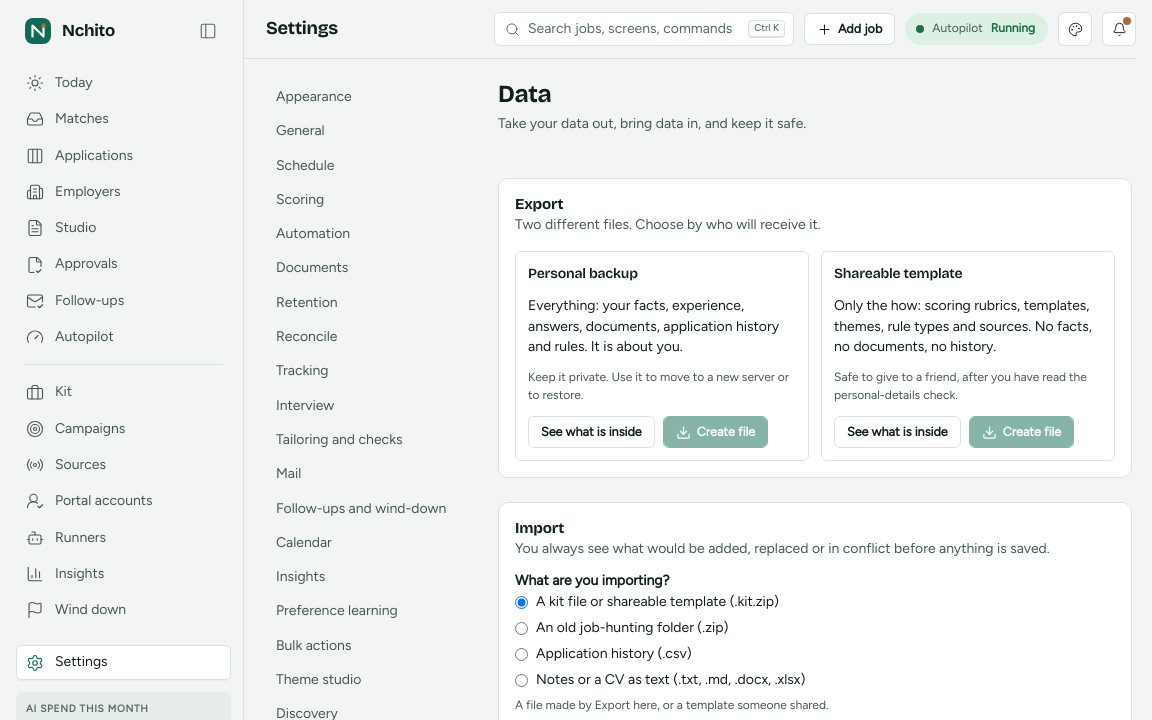
Scenario: Data against the wave 2 contract › refuses a share export with personal details until acknowledged, then downloads
The width and height of the screenshot is (1152, 720).
What coordinates should you click on to do the following:
click the 2nd button "See what is inside"
I would click on:
 (897, 432)
Its box is [834, 416, 961, 448].
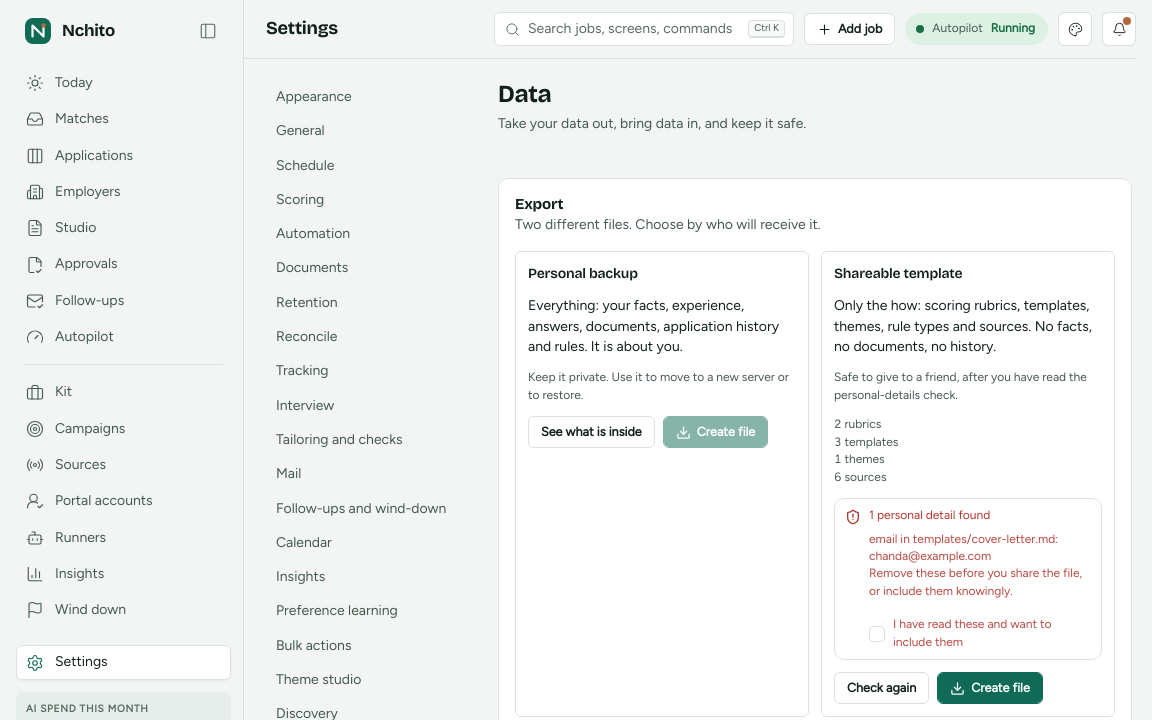
Now the text "1 personal detail found" is shown, box [869, 508, 990, 522]
What coordinates should you click on to do the following:
click the button "Create file" below "chanda@example.com"
I would click on:
 (990, 688)
Its box is [937, 672, 1043, 704].
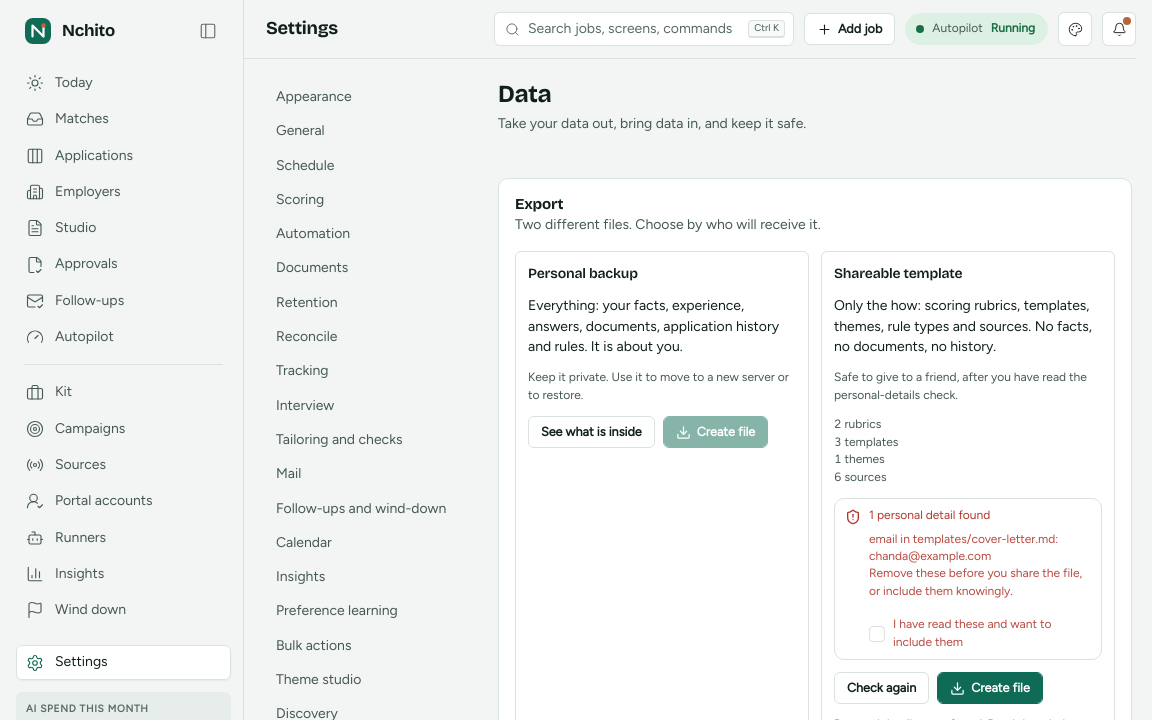
Expected: the button "Download" is not shown
What coordinates should you click on to do the following:
click the checkbox named "I have read these and want to include them"
I would click on:
 (877, 634)
Its box is [869, 626, 885, 642].
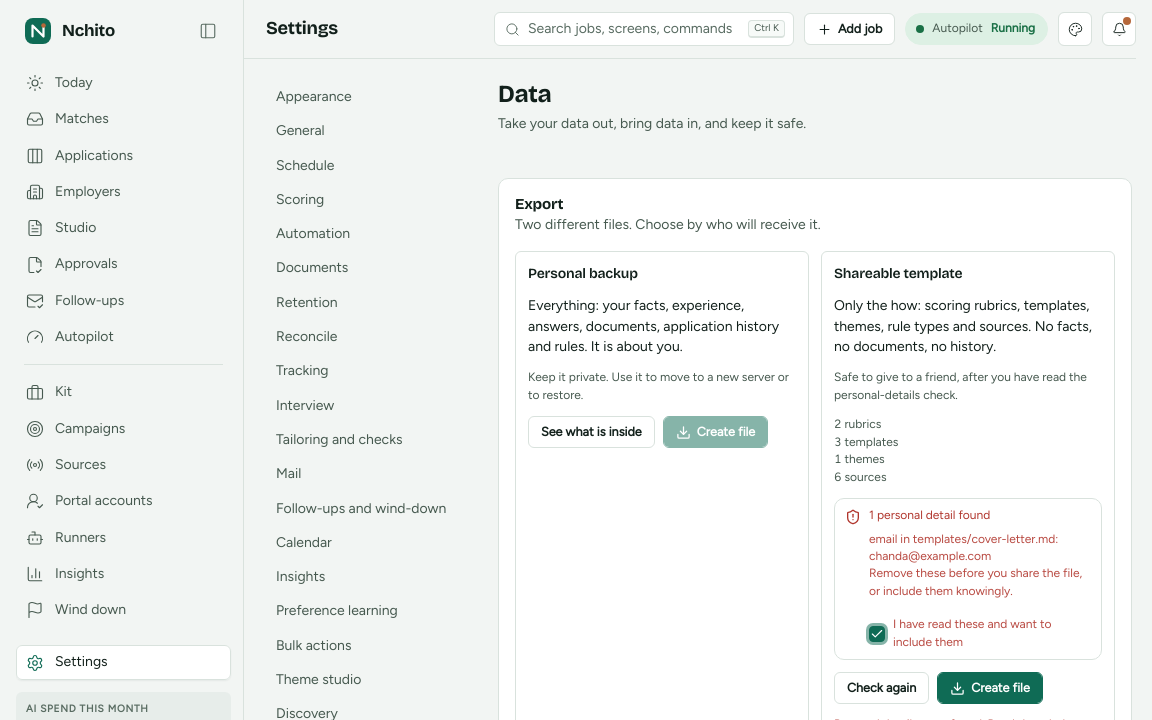
What coordinates should you click on to do the following:
click the button "Create file" below "chanda@example.com"
I would click on:
 (990, 688)
Its box is [937, 672, 1043, 704].
(page scrolled)
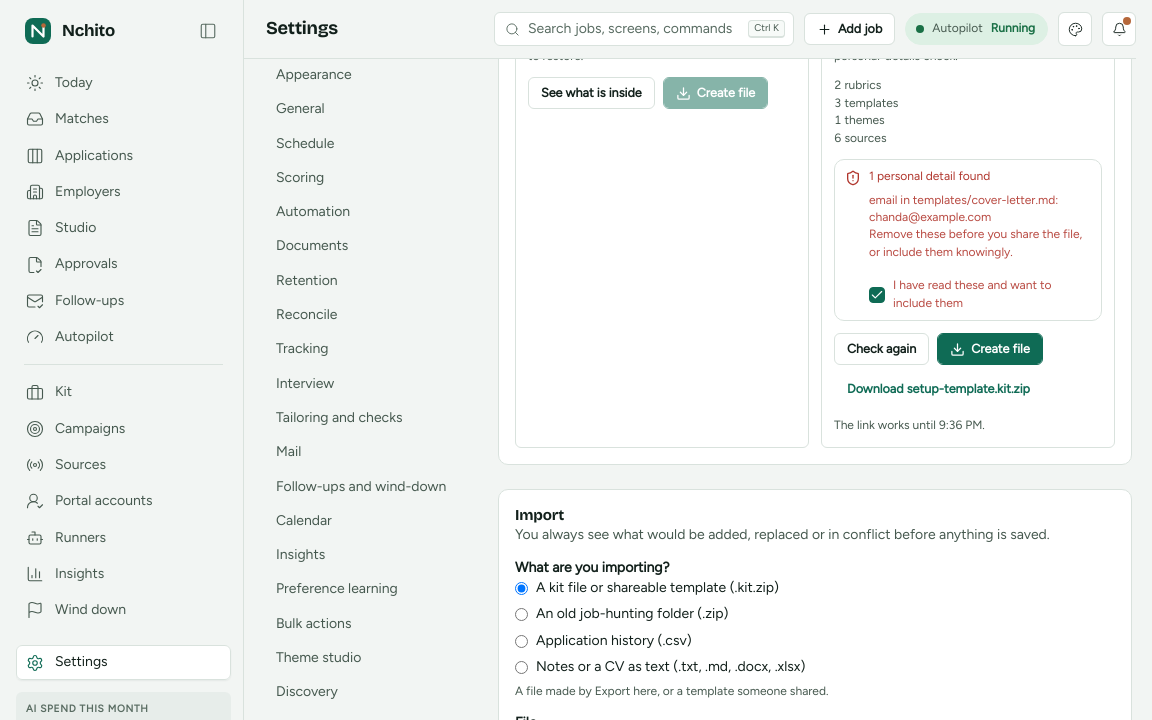
Now the button "Download setup-template.kit.zip" is enabled, box [834, 373, 1043, 405]
